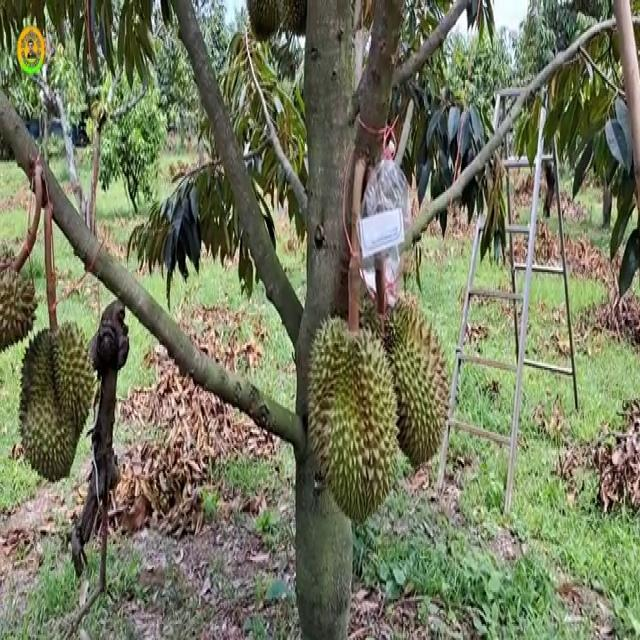durian: (305, 309, 403, 528), (350, 289, 453, 476), (16, 319, 97, 487)
